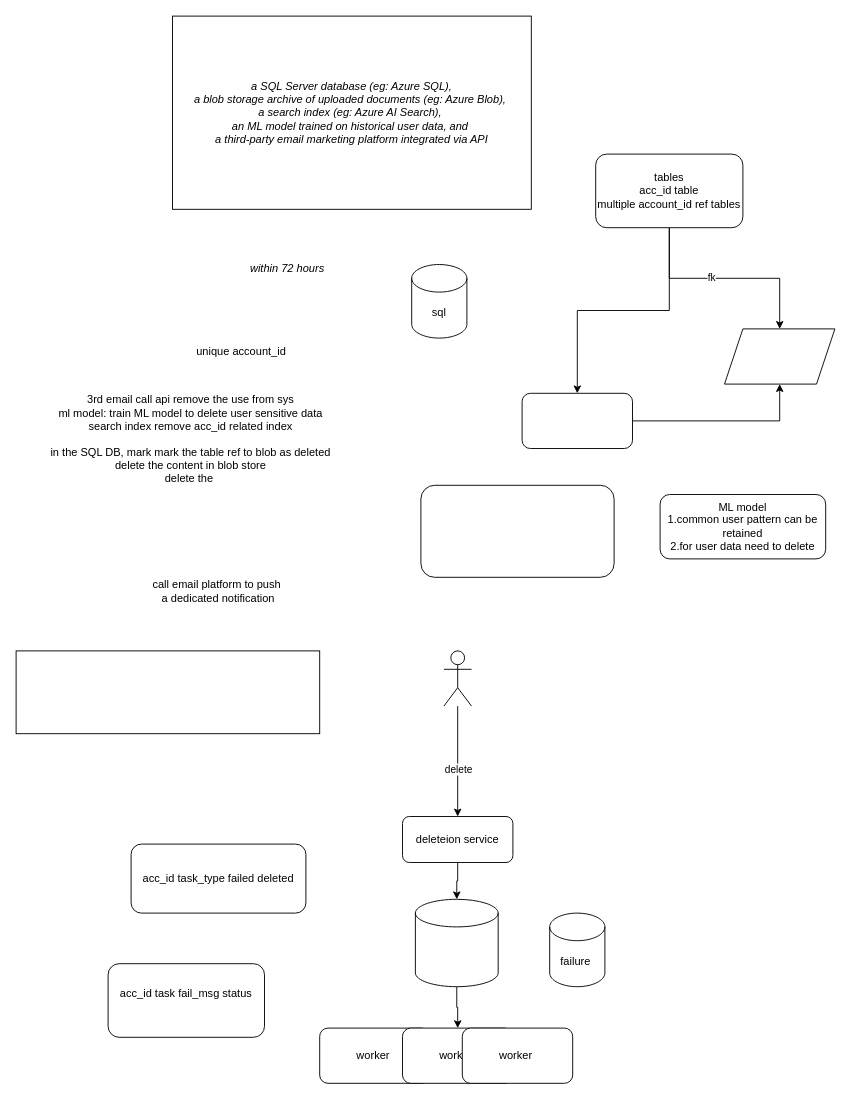
The diagram is 851 pixels wide and 1099 high, and some of its shapes have lost their labels. The centre of each missing label's shape, as x and y in pixels:
3rd party email platform user id and user email no longer sub: the point at 517,530
acc_id/ blob blob_id: the point at 779,356
Actor: the point at 457,678
handle multiple deletion error handling: the point at 167,692
index acc_id: the point at 576,420
task queue acc_id/ task: the point at 456,942
